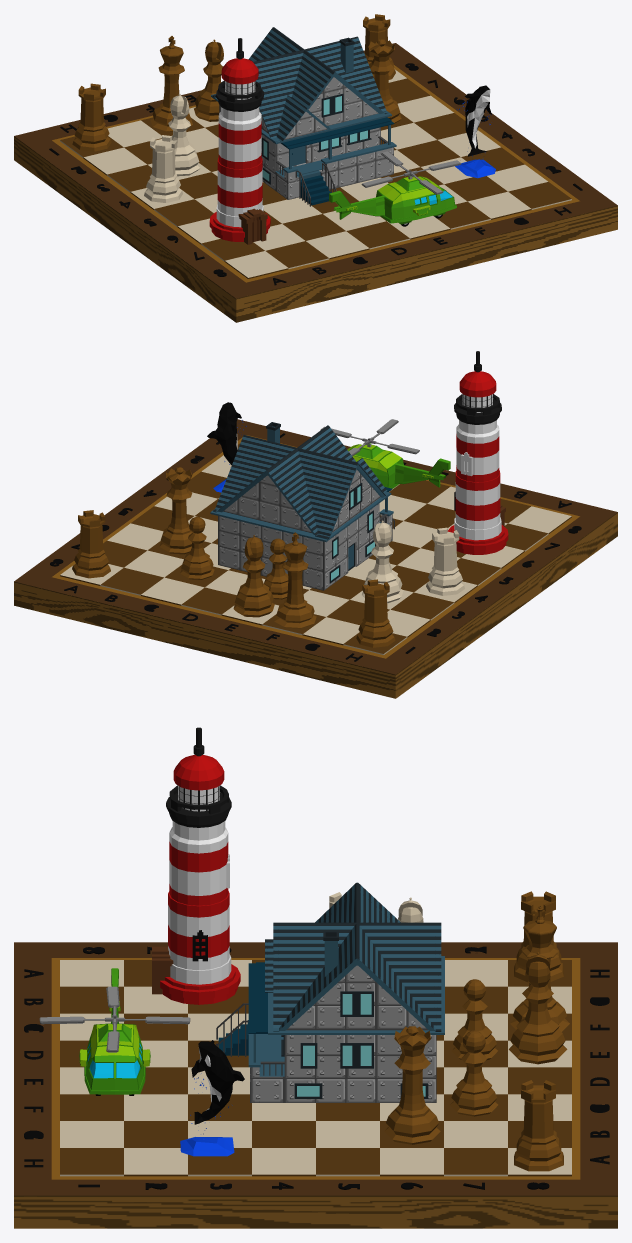
3 views of the same model, one above another, from view 1: azimuth 30°, elevation 25°; view 2: azimuth 150°, elevation 25°; view 3: azimuth 270°, elevation 25° (orthographic). The views are drawn at different scales.
Visible parts, largest first — view 1: Cube.002, Cube.078, OBJRANDOM_LIGHTHOUSE, VEHICLES_HELICOPTER, ANIMAL_ORCA; view 2: Cube.002, Cube.078, OBJRANDOM_LIGHTHOUSE, VEHICLES_HELICOPTER, ANIMAL_ORCA; view 3: Cube.002, Cube.078, OBJRANDOM_LIGHTHOUSE, VEHICLES_HELICOPTER, ANIMAL_ORCA.
Part boxes in pixels (x1,y1,x2,y2): Cube.002: [14, 14, 617, 322]; Cube.078: [211, 27, 396, 206]; OBJRANDOM_LIGHTHOUSE: [209, 38, 270, 244]; VEHICLES_HELICOPTER: [329, 151, 461, 226]; ANIMAL_ORCA: [455, 85, 495, 178]; Cube.002: [14, 419, 617, 698]; Cube.078: [210, 422, 394, 590]; OBJRANDOM_LIGHTHOUSE: [447, 351, 508, 554]; VEHICLES_HELICOPTER: [320, 419, 450, 488]; ANIMAL_ORCA: [207, 402, 246, 492]; Cube.002: [14, 891, 617, 1228]; Cube.078: [216, 882, 444, 1102]; OBJRANDOM_LIGHTHOUSE: [152, 727, 240, 1004]; VEHICLES_HELICOPTER: [39, 968, 190, 1095]; ANIMAL_ORCA: [180, 1040, 244, 1156].
Bounding box in the file's own units: 3981 × 2239 × 4012.
36 materials, 4 textured.
